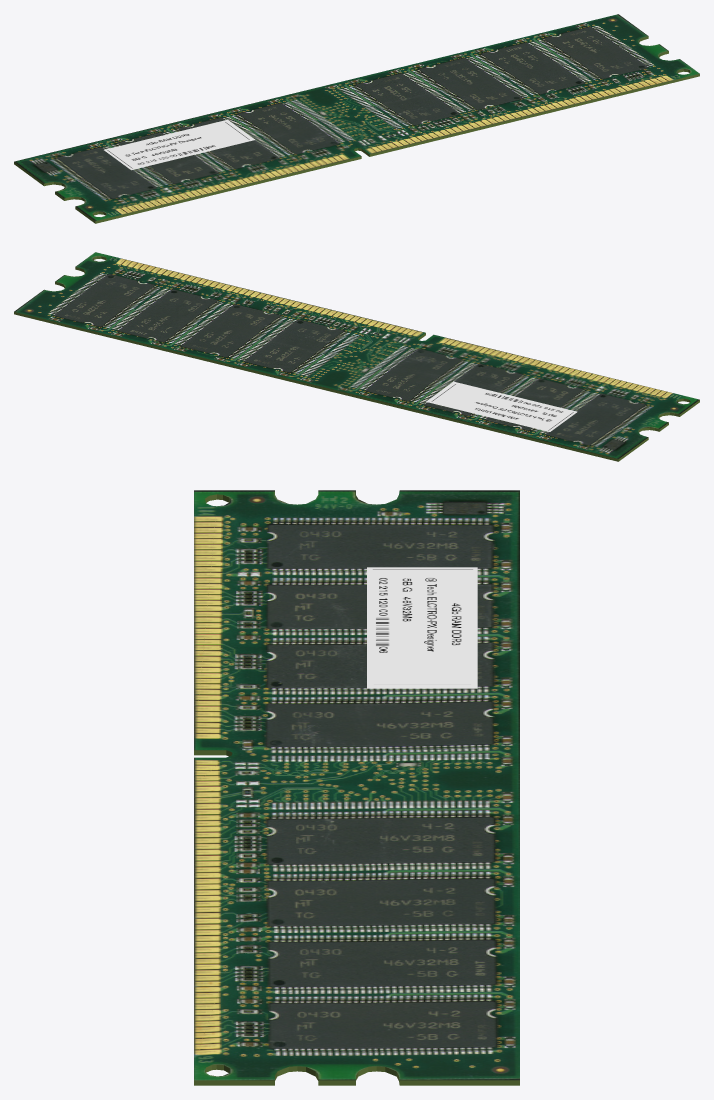
The model's file is ram.glb.
The picture shows the model from 3 angles, top to bottom: view 1: azimuth 30°, elevation 25°; view 2: azimuth 150°, elevation 25°; view 3: azimuth 270°, elevation 25°; orthographic projection. The views are drawn at different scales.
Parts seen in each view (by area): view 1: RAM; view 2: RAM; view 3: RAM.
Part boxes in pixels (x1,y1,x2,y2): RAM: [14, 14, 699, 223]; RAM: [14, 252, 699, 461]; RAM: [194, 490, 519, 1085].
Size of the model in its own units: 973 by 4.19 by 227.
1 material, 1 textured.
